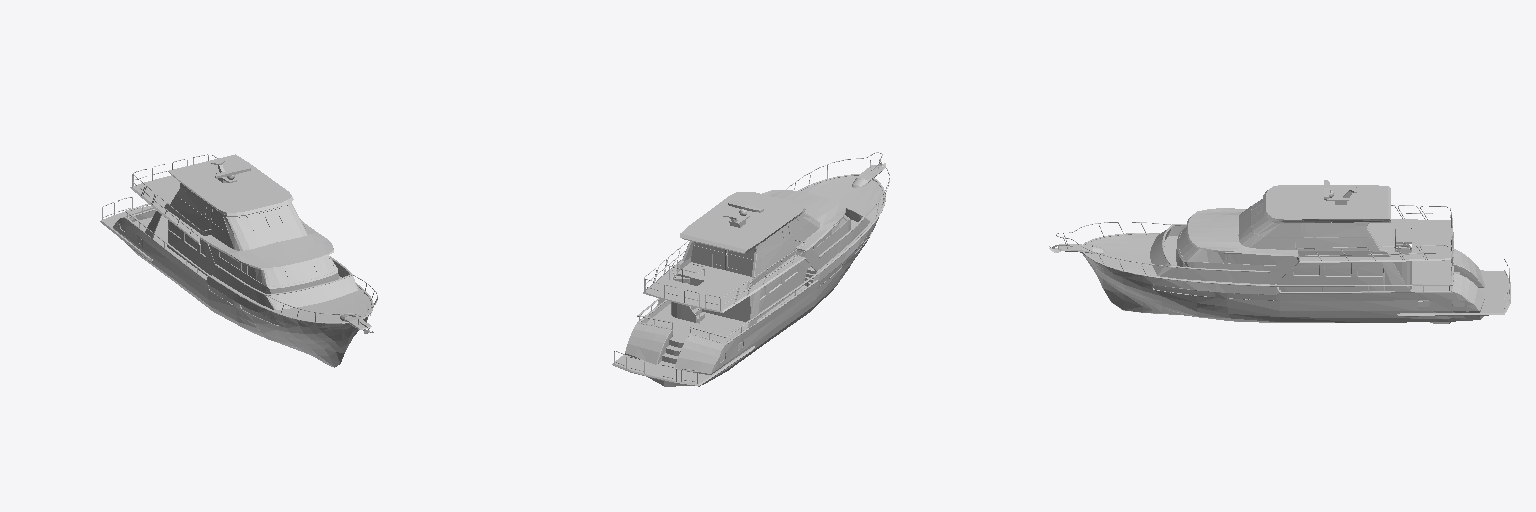
The model's file is ship.obj.
The picture shows the model from 3 angles: view 1: azimuth 30°, elevation 25°; view 2: azimuth 150°, elevation 25°; view 3: azimuth 270°, elevation 25°; orthographic projection.
Parts seen in each view (by area): view 1: Hull_Plane, Cabin_Cube, FloorTop_Cube.003, FloorSecond_Cube.002, CabinTop_Cube.001, FloorFirst_Plane.002, TopCabinWindows_Cube.005, Cabin.Windows_Cube.004, DarkWoodTrim_BezierCurve.027; view 2: Hull_Plane, FloorSecond_Cube.002, FloorTop_Cube.003, Cabin_Cube, HullBottom_Plane.003, FloorFirst_Plane.002, BackWalls_Plane.014, CabinTop_Cube.001, Platform_Plane.001, DarkWoodTrim_BezierCurve.027, TopCabinWindows_Cube.005, ChromeHandRailsSide_BezierCurve.035; view 3: Hull_Plane, FloorSecond_Cube.002, Cabin_Cube, FloorTop_Cube.003, CabinTop_Cube.001, FloorFirst_Plane.002, Cabin.Windows_Cube.004, TopCabinWindows_Cube.005, Platform_Plane.001, DarkWoodTrim_BezierCurve.027, HullBottom_Plane.003, WindowsHull_Plane.006 (+1 smaller).
Part boxes in pixels (bbox=[...]): Hull_Plane: bbox=[113, 208, 369, 367]; Cabin_Cube: bbox=[145, 210, 357, 320]; FloorTop_Cube.003: bbox=[168, 154, 293, 216]; FloorSecond_Cube.002: bbox=[130, 175, 333, 269]; CabinTop_Cube.001: bbox=[164, 182, 307, 250]; FloorFirst_Plane.002: bbox=[212, 275, 371, 321]; TopCabinWindows_Cube.005: bbox=[182, 189, 299, 235]; Cabin.Windows_Cube.004: bbox=[169, 222, 335, 286]; DarkWoodTrim_BezierCurve.027: bbox=[125, 204, 373, 323]; Hull_Plane: bbox=[625, 176, 878, 386]; FloorSecond_Cube.002: bbox=[643, 190, 845, 312]; FloorTop_Cube.003: bbox=[680, 192, 805, 253]; Cabin_Cube: bbox=[657, 178, 869, 327]; HullBottom_Plane.003: bbox=[647, 270, 818, 363]; FloorFirst_Plane.002: bbox=[800, 177, 883, 271]; BackWalls_Plane.014: bbox=[685, 242, 754, 321]; CabinTop_Cube.001: bbox=[676, 214, 819, 288]; Platform_Plane.001: bbox=[612, 346, 754, 386]; DarkWoodTrim_BezierCurve.027: bbox=[637, 174, 885, 343]; TopCabinWindows_Cube.005: bbox=[762, 213, 811, 257]; ChromeHandRailsSide_BezierCurve.035: bbox=[644, 152, 889, 304]; Hull_Plane: bbox=[1082, 242, 1484, 322]; FloorSecond_Cube.002: bbox=[1186, 208, 1453, 262]; Cabin_Cube: bbox=[1092, 225, 1410, 291]; FloorTop_Cube.003: bbox=[1263, 185, 1390, 222]; CabinTop_Cube.001: bbox=[1238, 202, 1391, 256]; FloorFirst_Plane.002: bbox=[1086, 234, 1269, 284]; Cabin.Windows_Cube.004: bbox=[1179, 227, 1382, 275]; TopCabinWindows_Cube.005: bbox=[1251, 199, 1360, 236]; Platform_Plane.001: bbox=[1397, 270, 1510, 316]; DarkWoodTrim_BezierCurve.027: bbox=[1082, 224, 1453, 292]; HullBottom_Plane.003: bbox=[1275, 254, 1473, 291]; WindowsHull_Plane.006: bbox=[1153, 285, 1464, 306].
Size of the model in its own units: 5.67 by 7.28 by 22.48.